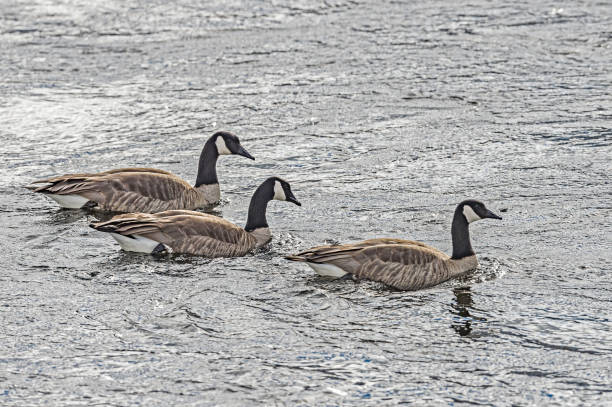goose: (280, 198, 504, 292), (23, 130, 256, 217), (82, 176, 302, 258)
